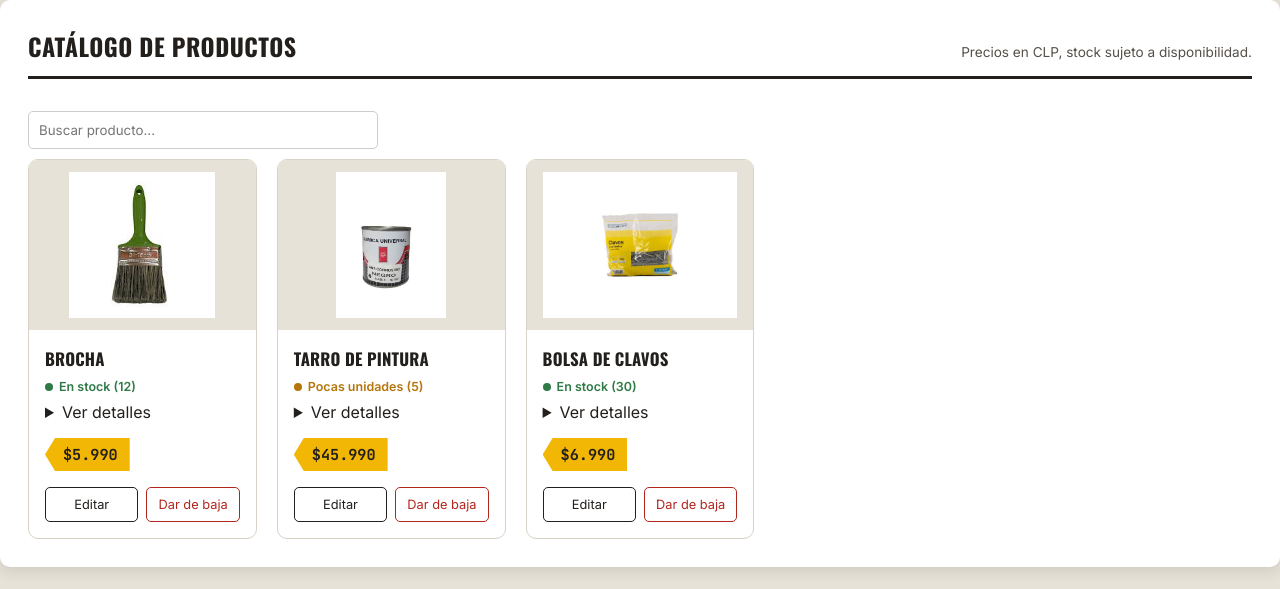
Test case: El administrador edita el precio y el stock de un producto
Note: interaccion del usuario
Click the button "Editar" below "$5.990" at (92, 504), box x1=45 y1=487 x2=138 y2=522
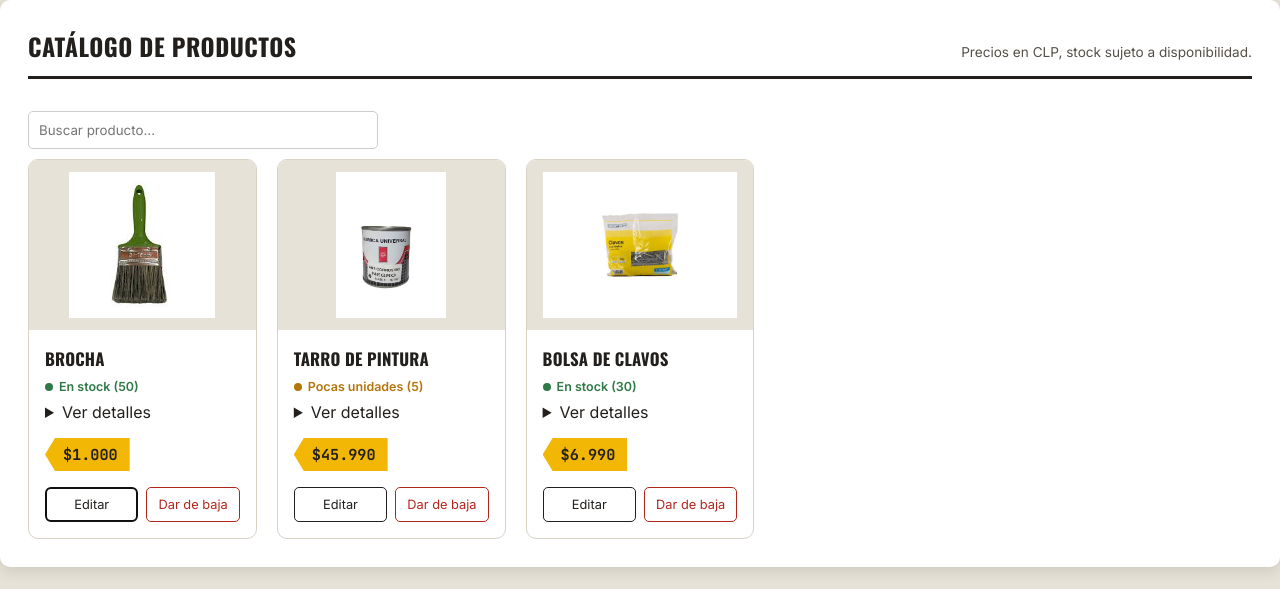
expect the text "En stock (50)" is shown: met, box x1=45 y1=379 x2=139 y2=394
